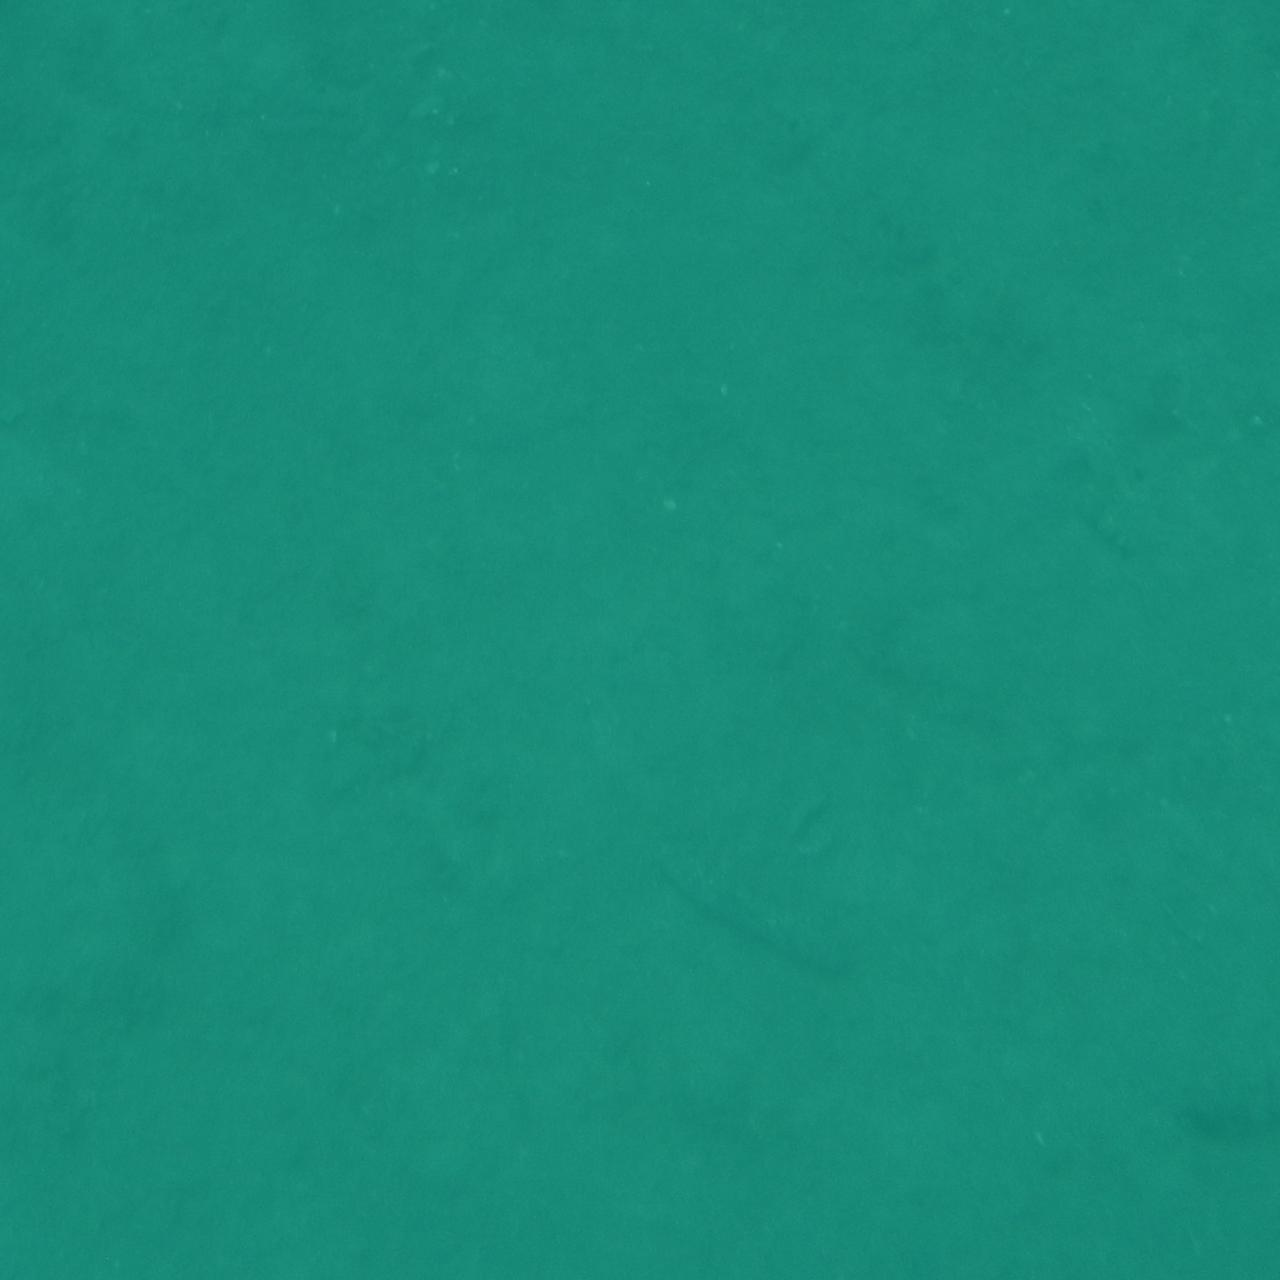Holothuria tubulosa: (1112, 975, 1280, 1151), (652, 867, 874, 987), (0, 998, 42, 1279)
